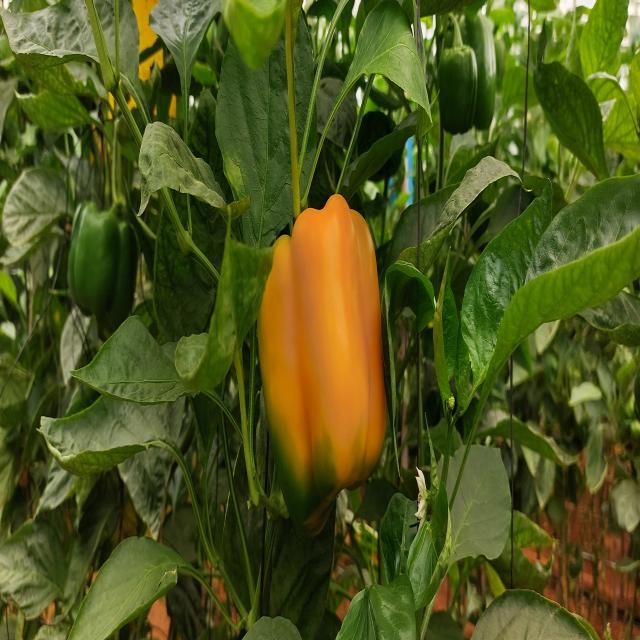Yellow-Ready-to-Harvest: (258, 197, 392, 461)
